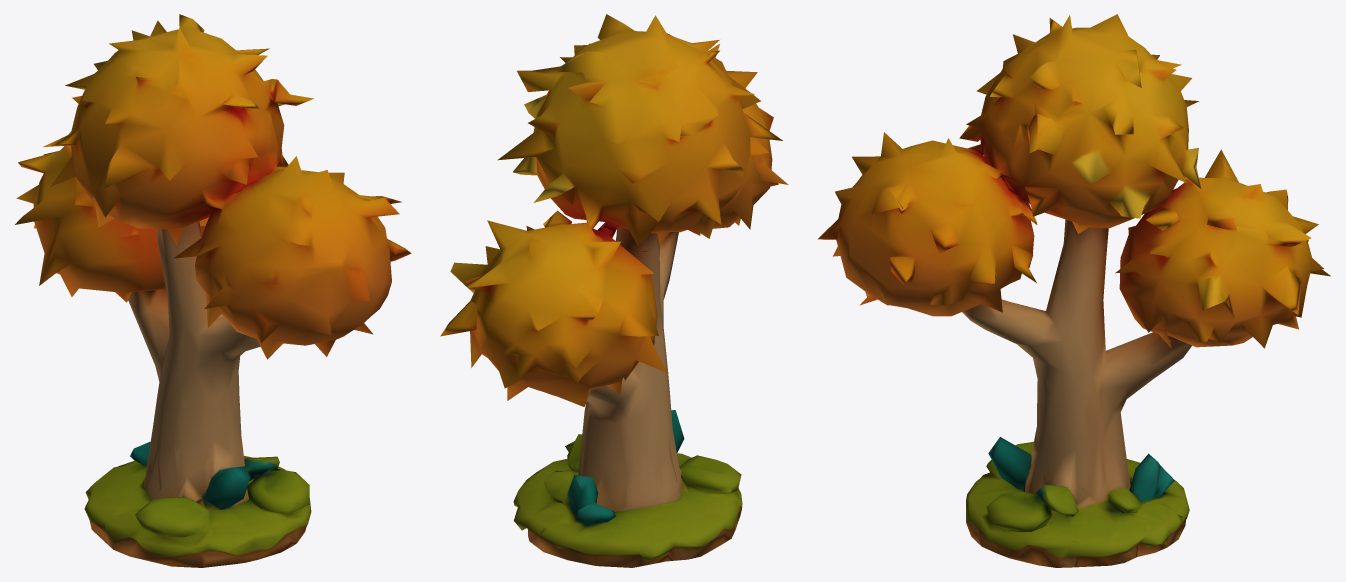
Rendered from textures.glb.
3 views of the same model, side by side, from view 1: azimuth 30°, elevation 25°; view 2: azimuth 150°, elevation 25°; view 3: azimuth 270°, elevation 25° (orthographic). The views are drawn at different scales.
Visible parts, largest first — view 1: tripo_node_20ce5e56-d1ed-4cb3-950a-bea2cf4f0720; view 2: tripo_node_20ce5e56-d1ed-4cb3-950a-bea2cf4f0720; view 3: tripo_node_20ce5e56-d1ed-4cb3-950a-bea2cf4f0720.
Boxes of the visible parts, bbox=[...] form: tripo_node_20ce5e56-d1ed-4cb3-950a-bea2cf4f0720: bbox=[15, 14, 411, 567]; tripo_node_20ce5e56-d1ed-4cb3-950a-bea2cf4f0720: bbox=[440, 14, 788, 567]; tripo_node_20ce5e56-d1ed-4cb3-950a-bea2cf4f0720: bbox=[818, 14, 1330, 567].
Size of the model in its own units: 0.5635 by 1 by 0.9348.
Materials: 1 (1 with a texture image).
